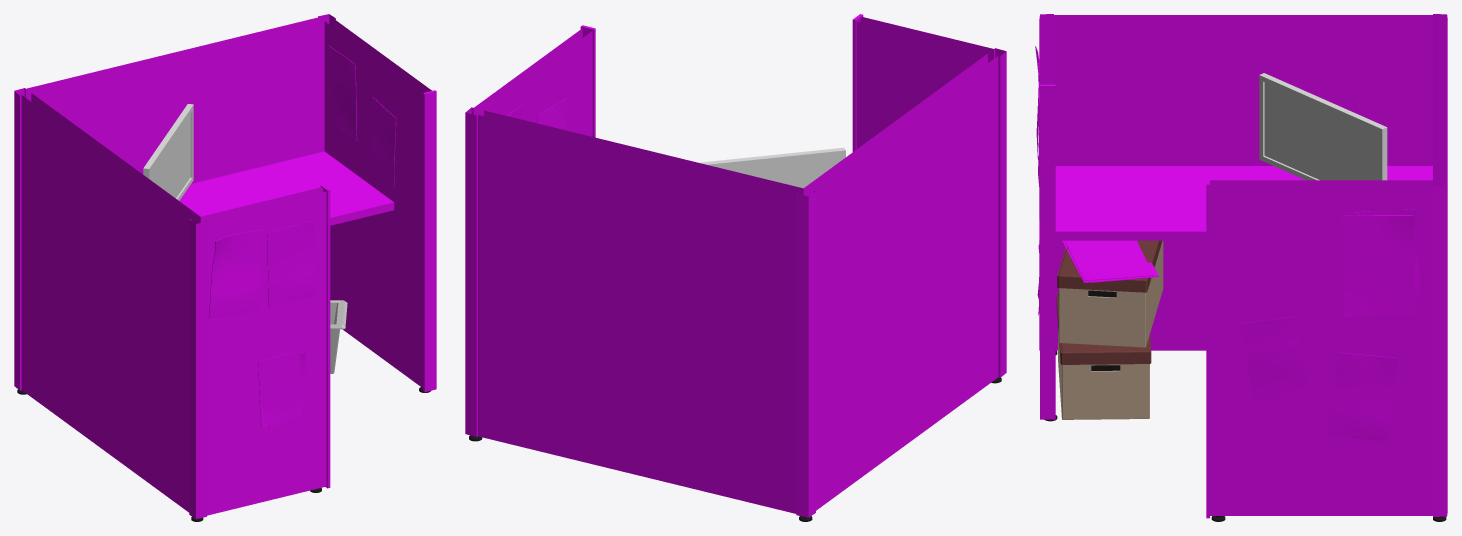
Rendered from Cubical_V1.FBX.
3 renders of one model, left to right at view 1: azimuth 30°, elevation 25°; view 2: azimuth 150°, elevation 25°; view 3: azimuth 270°, elevation 25°, orthographic. The views are drawn at different scales.
Parts seen in each view (by area): view 1: Box044, Box036, Box037, Box040, Box045, Box078, Box079, Box029; view 2: Box044, Box045, Box079; view 3: Box044, Box045, Box039, FileBox001, Box041, FileBox, Box038, Box077, FileBoxLid, FileBoxLid001.
Part boxes in pixels (bbox=[...]): Box044: bbox=[14, 14, 436, 521]; Box036: bbox=[208, 229, 262, 318]; Box037: bbox=[267, 220, 315, 307]; Box040: bbox=[258, 350, 309, 429]; Box045: bbox=[143, 104, 193, 200]; Box078: bbox=[328, 45, 357, 140]; Box079: bbox=[369, 97, 396, 187]; Box029: bbox=[330, 300, 347, 373]; Box044: bbox=[465, 14, 1006, 521]; Box045: bbox=[699, 147, 845, 188]; Box079: bbox=[537, 98, 566, 130]; Box044: bbox=[1039, 14, 1447, 521]; Box045: bbox=[1259, 73, 1387, 180]; Box039: bbox=[1341, 209, 1421, 316]; FileBox001: bbox=[1058, 241, 1163, 347]; Box041: bbox=[1329, 352, 1397, 441]; FileBox: bbox=[1058, 328, 1149, 419]; Box038: bbox=[1240, 316, 1309, 402]; Box077: bbox=[1062, 240, 1158, 282]; FileBoxLid: bbox=[1056, 293, 1151, 364]; FileBoxLid001: bbox=[1057, 240, 1162, 292].
Bounding box in the file's own units: 1355 × 1223 × 1355.
